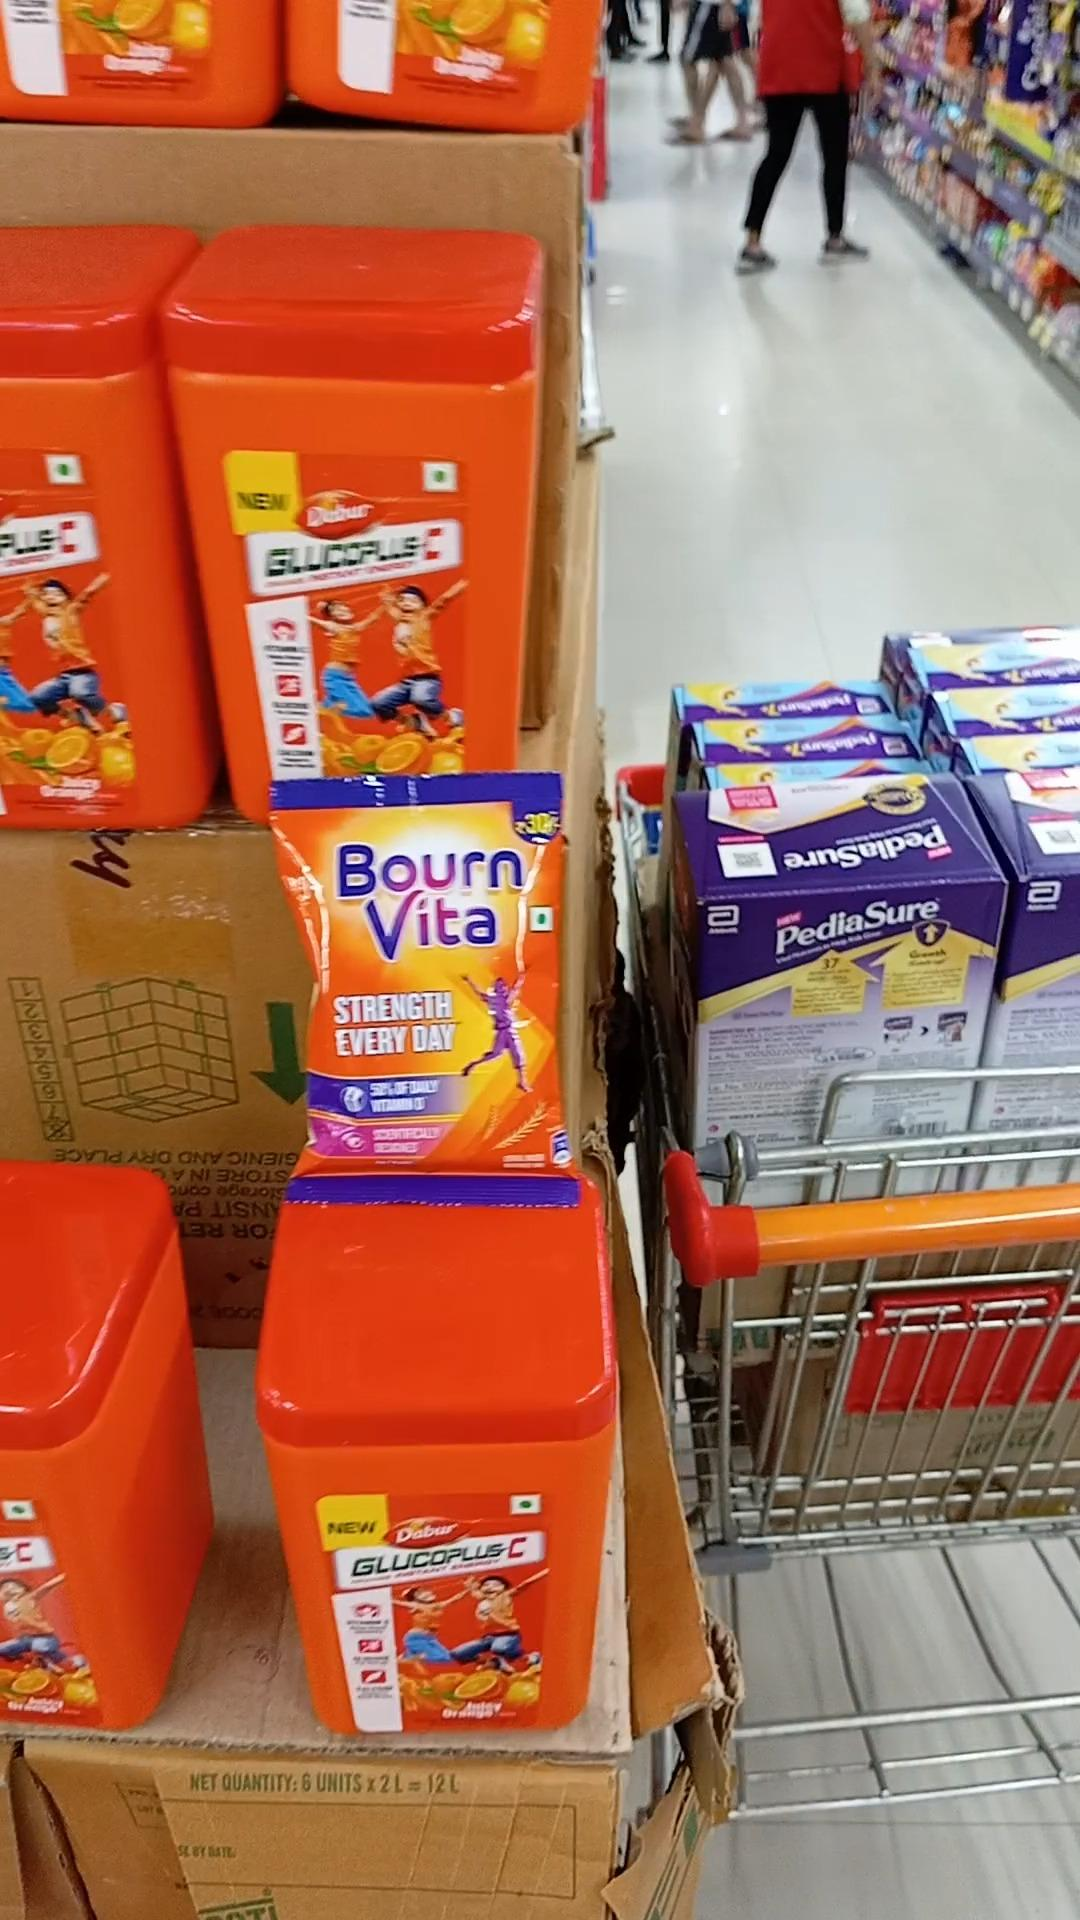BOURN_VITA_75_G_POUCH: (301, 760, 576, 1208)
